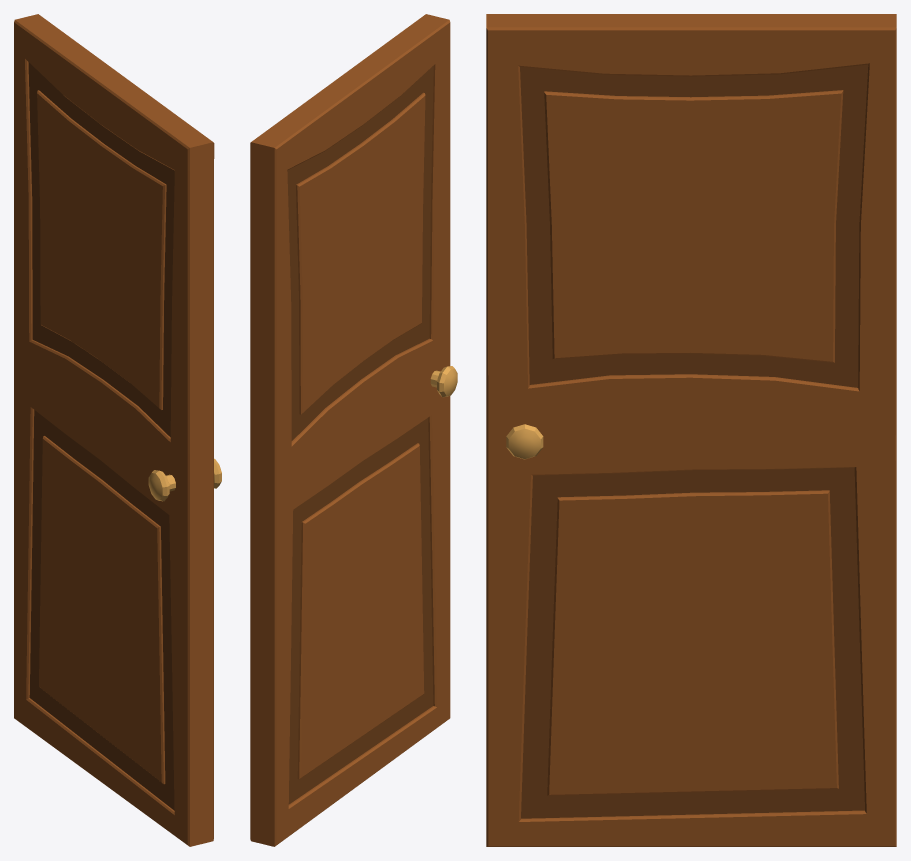
The model's file is Door.fbx.
The picture shows the model from 3 angles, left to right: view 1: azimuth 30°, elevation 25°; view 2: azimuth 150°, elevation 25°; view 3: azimuth 270°, elevation 25°; orthographic projection. The views are drawn at different scales.
Visible parts, largest first — view 1: Door; view 2: Door; view 3: Door.
Part boxes in pixels (box(x1,y1,x2,y2)): Door: box(14, 14, 221, 846); Door: box(250, 14, 457, 846); Door: box(486, 14, 896, 846).
Bounding box in the file's own units: 0.2018 × 2.02 × 0.9182.
